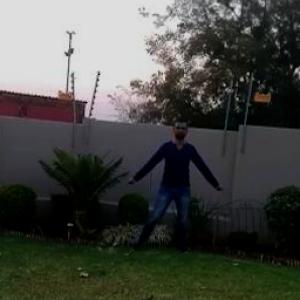land: (116, 114, 224, 256)
